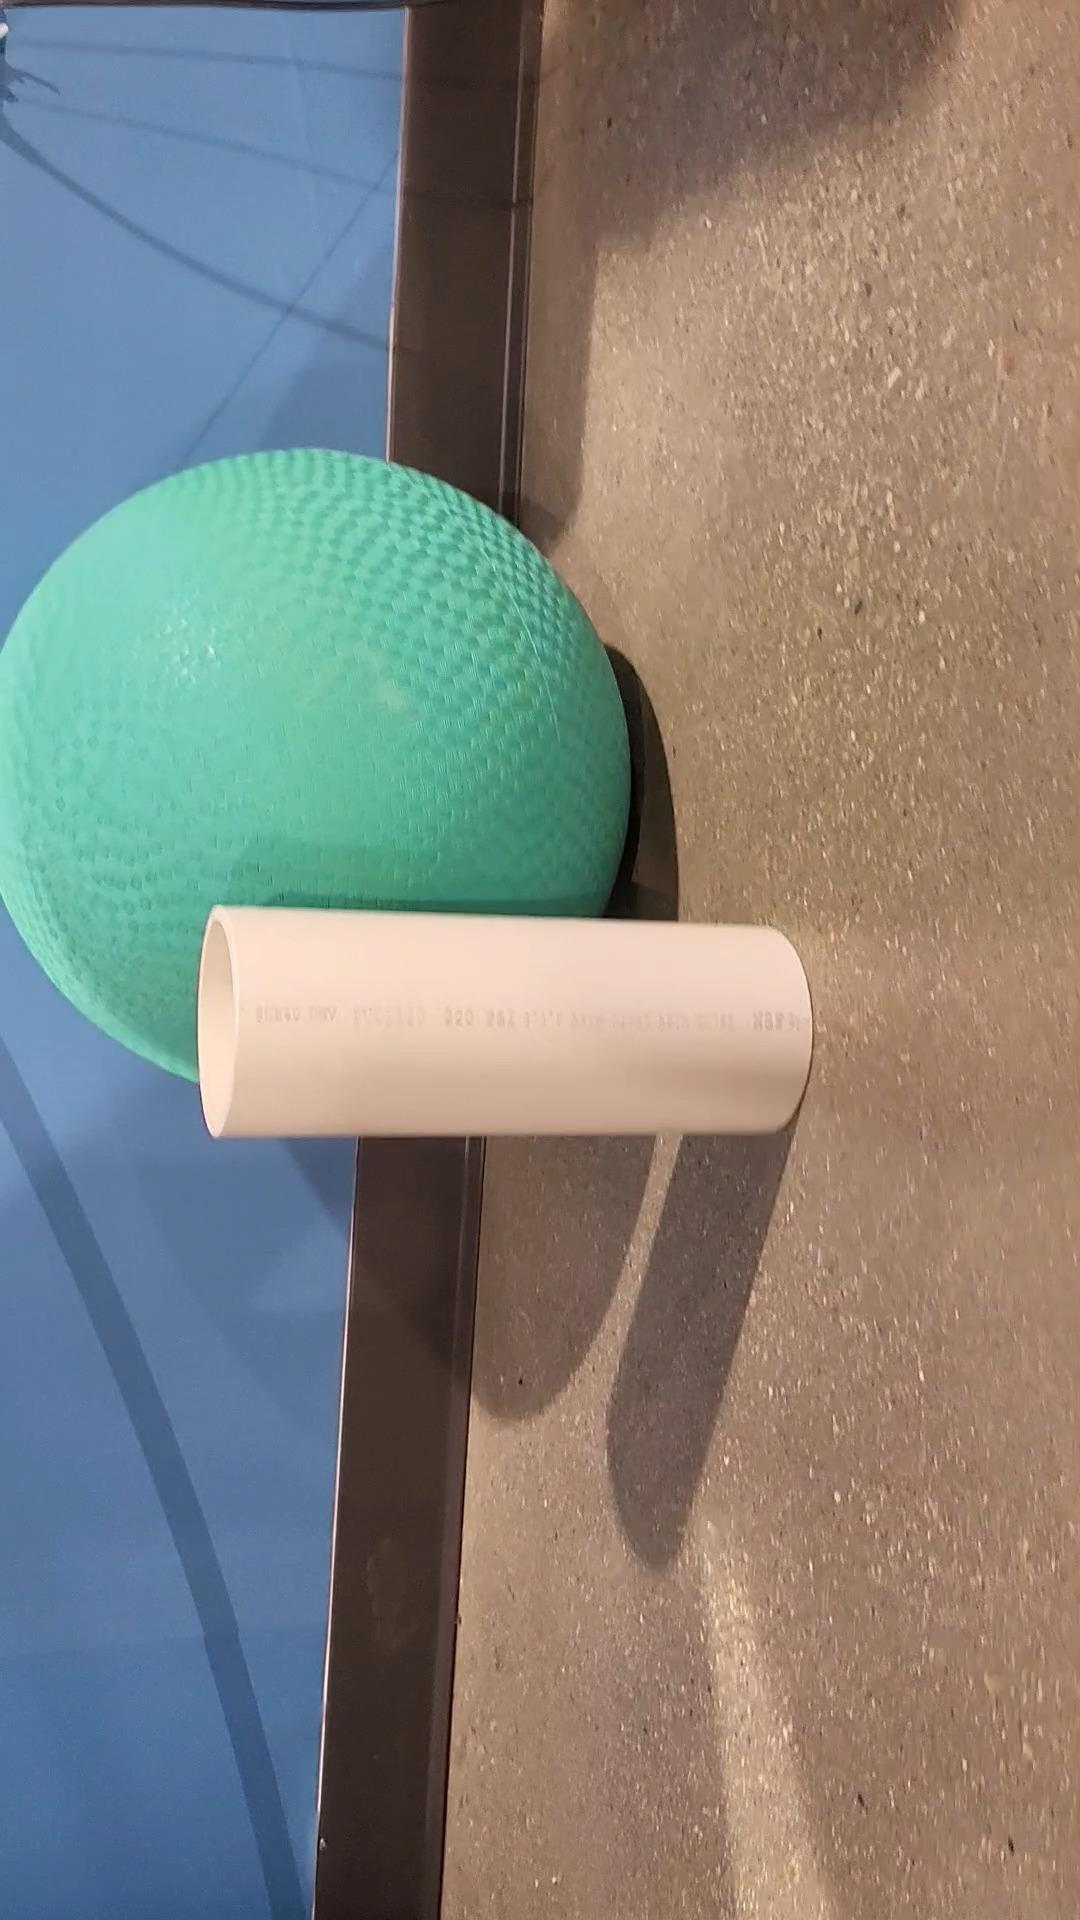algae: (0, 447, 630, 1085)
coral: (195, 907, 818, 1142)
